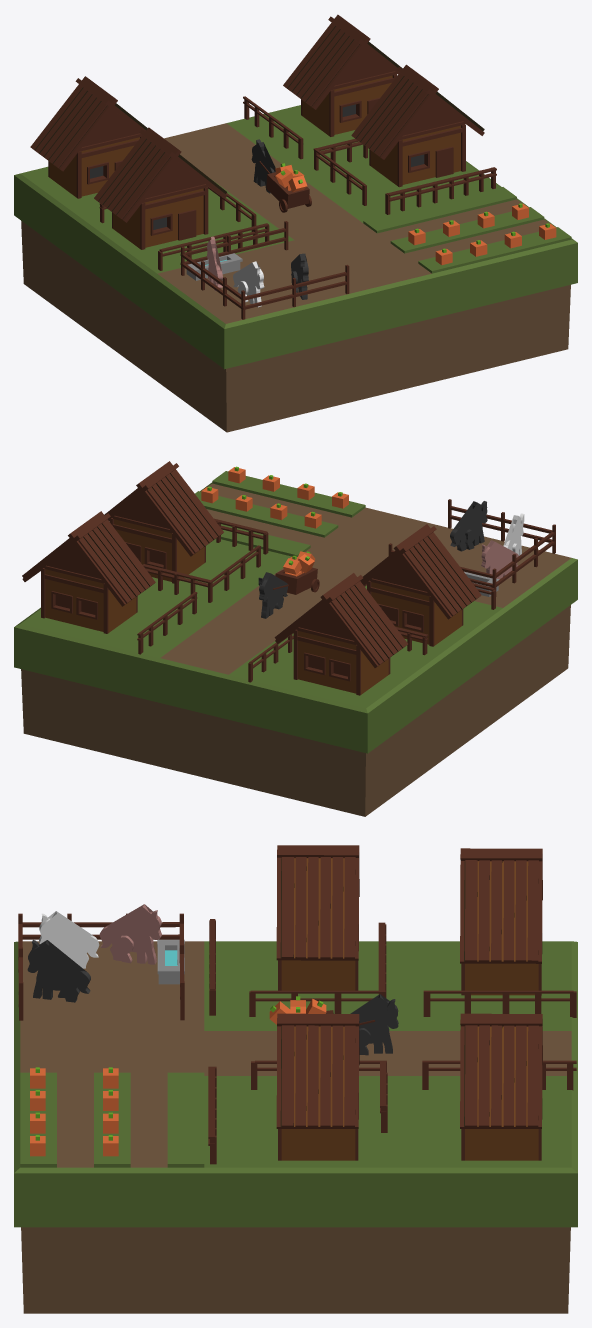
Rendered from pueblo.fbx.
3 renders of one model, top to bottom at view 1: azimuth 30°, elevation 25°; view 2: azimuth 150°, elevation 25°; view 3: azimuth 270°, elevation 25°, orthographic. The views are drawn at different scales.
Parts seen in each view (by area): view 1: Cube, Cube.002, Cube.004, Cube.001, Cube.003, establo, Cube.018, Cube.051, Cube.035, Cylinder.001, caballo2, caballo1.001 (+4 smaller); view 2: Cube, Cube.003, Cube.001, Cube.002, Cube.004, Cube.018, establo, caballo1, Cube.058, caballo1.001, caballo3, Cylinder.001 (+3 smaller); view 3: Cube, Cube.001, Cube.004, Cube.002, Cube.003, Cube.058, caballo1, caballo3, Cube.018, caballo2, caballo1.001, establo (+4 smaller).
Boxes of the visible parts, x1,y1,x2,y2 form: Cube: (14, 105, 577, 432); Cube.002: (94, 127, 227, 249); Cube.004: (351, 64, 484, 187); Cube.001: (283, 14, 402, 136); Cube.003: (30, 76, 147, 198); establo: (180, 221, 349, 319); Cube.018: (243, 96, 367, 205); Cube.051: (385, 167, 496, 214); Cube.035: (158, 223, 269, 270); Cylinder.001: (259, 161, 311, 212); caballo2: (233, 261, 264, 307); caballo1.001: (251, 139, 275, 193); Cube: (14, 471, 577, 816); Cube.003: (274, 573, 407, 695); Cube.001: (22, 511, 155, 633); Cube.002: (360, 524, 481, 646); Cube.004: (104, 461, 223, 583); Cube.018: (137, 545, 260, 654); establo: (388, 499, 555, 596); caballo1: (450, 501, 487, 551); Cube.058: (248, 584, 428, 682); caballo1.001: (258, 572, 287, 618); caballo3: (481, 540, 518, 578); Cylinder.001: (273, 567, 319, 594); Cube: (14, 941, 577, 1313); Cube.001: (460, 1013, 542, 1160); Cube.004: (276, 1013, 359, 1160); Cube.002: (276, 845, 359, 990); Cube.003: (460, 848, 542, 995); Cube.058: (249, 922, 576, 1017); caballo1: (27, 940, 90, 1002); caballo3: (99, 904, 161, 964); Cube.018: (251, 1060, 576, 1132); caballo2: (39, 911, 99, 968); caballo1.001: (350, 994, 398, 1055); establo: (18, 913, 184, 1020).
Bounding box in the file's own units: 695 × 369 × 696.
